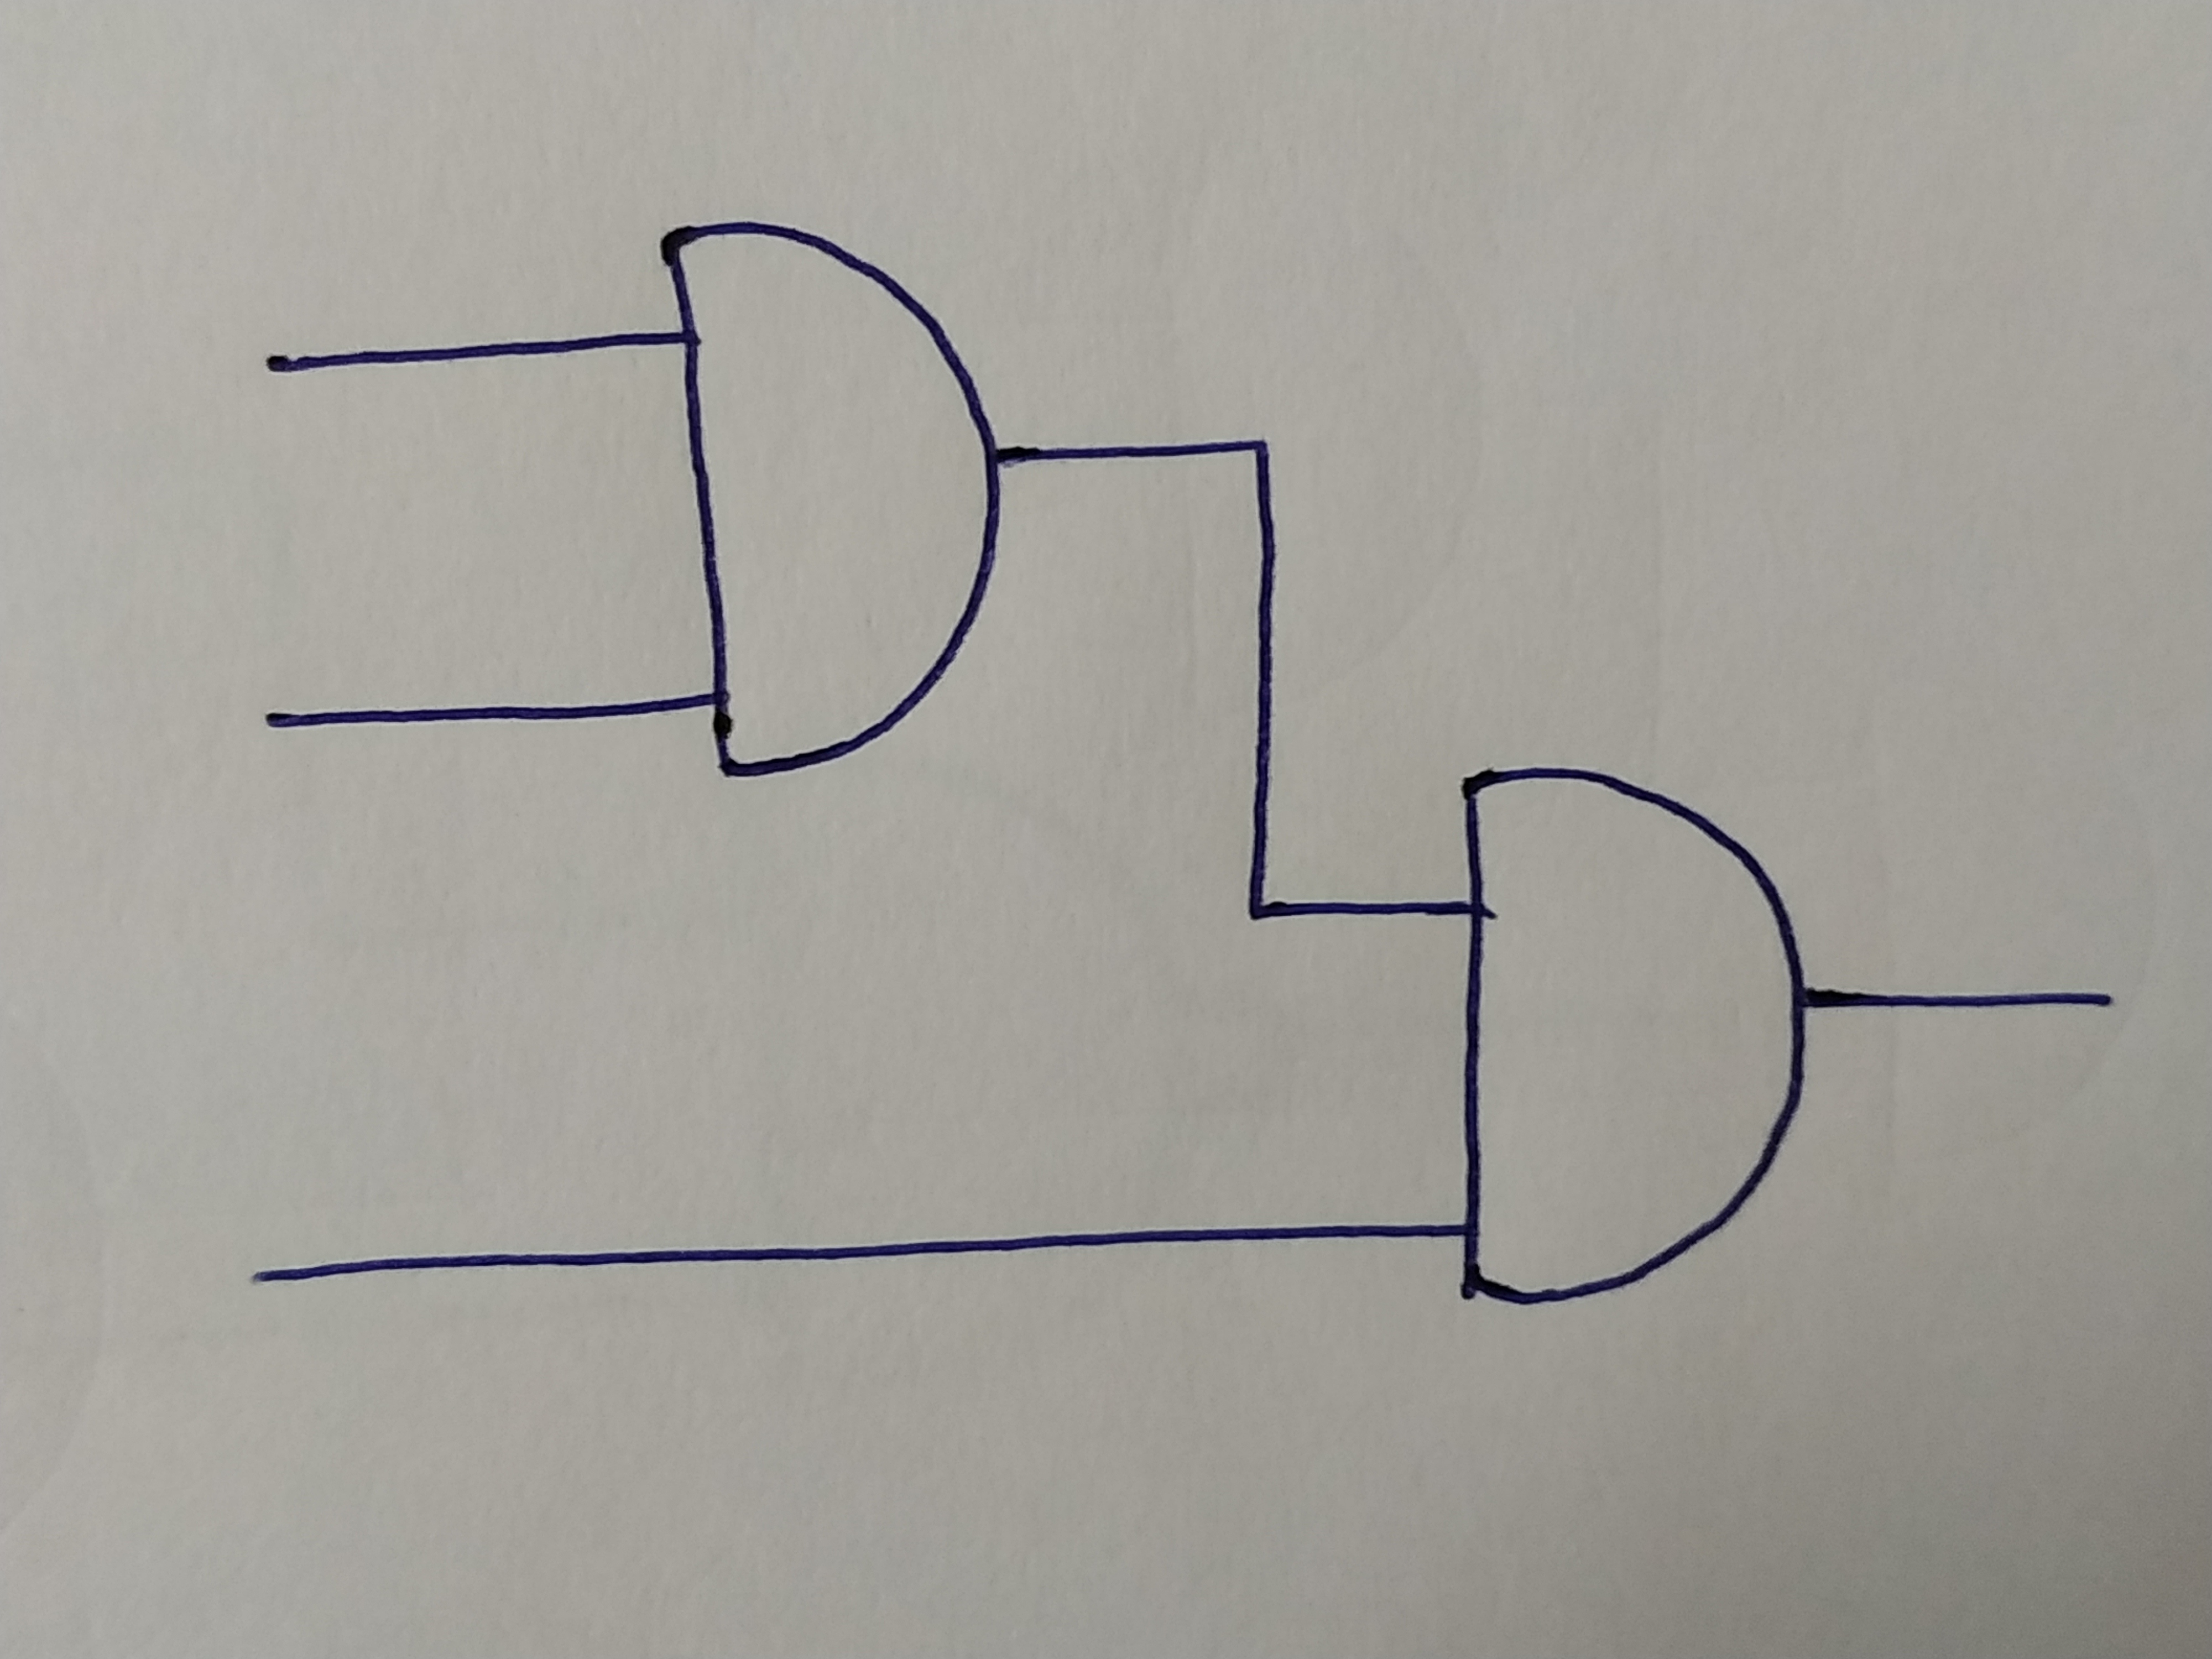and: (1456, 767, 1804, 1314), (665, 228, 996, 772)
